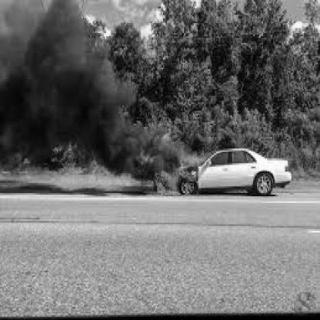Fire: (139, 151, 195, 197)
Smoke: (1, 2, 154, 180)
